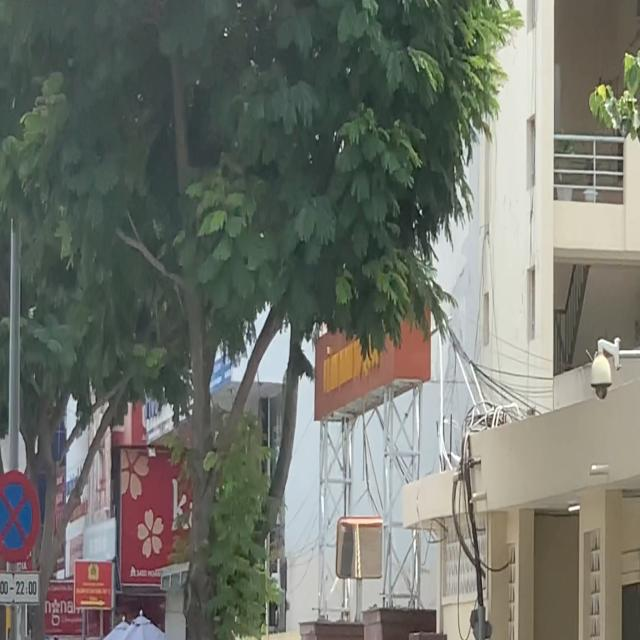Cam dung va do: (0, 467, 44, 567)
